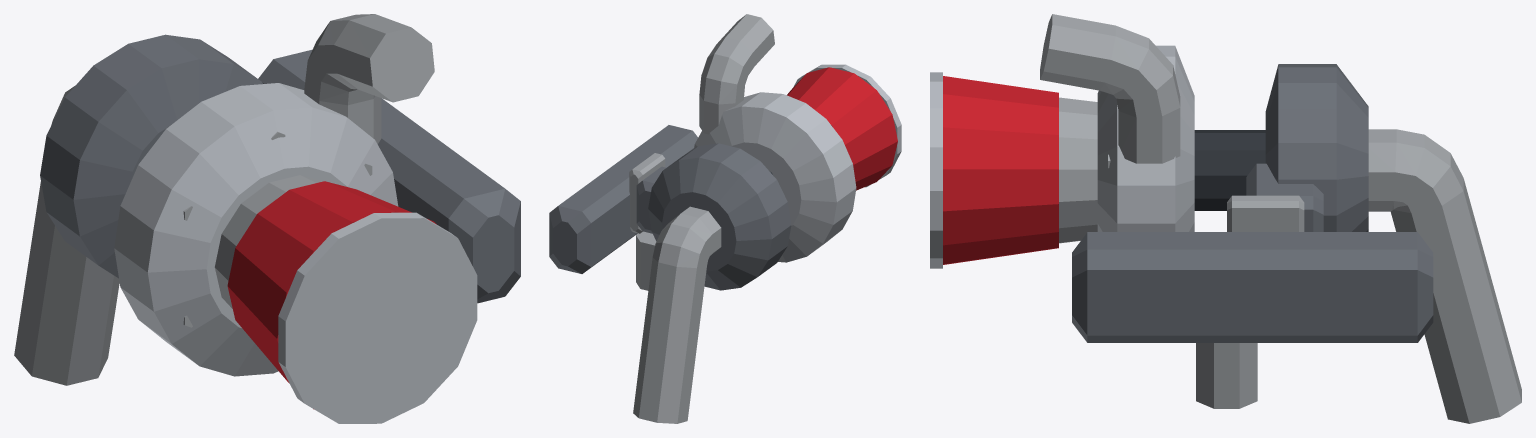
The model's file is kaze_gt.glb.
3 views of the same model, side by side, from view 1: azimuth 30°, elevation 25°; view 2: azimuth 150°, elevation 25°; view 3: azimuth 270°, elevation 25° (orthographic). The views are drawn at different scales.
Visible parts, largest first — view 1: model; view 2: model; view 3: model.
Part boxes in pixels (x1,y1,x2,y2): model: (14, 14, 520, 423); model: (549, 14, 901, 423); model: (930, 14, 1521, 423).
Size of the model in its own units: 0.2758 by 0.3681 by 0.4587.
Materials: 2 (1 with a texture image).
